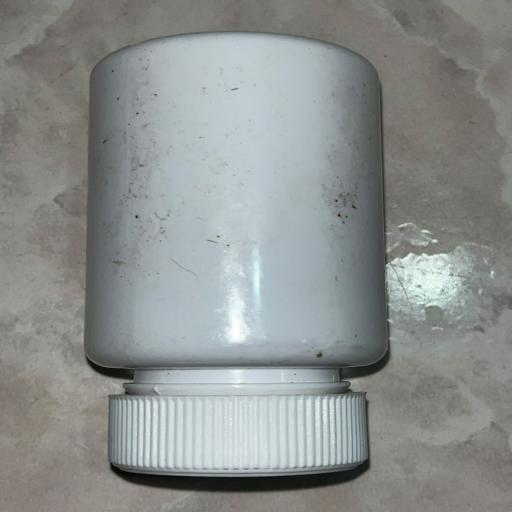HDPE: (36, 14, 437, 496)
